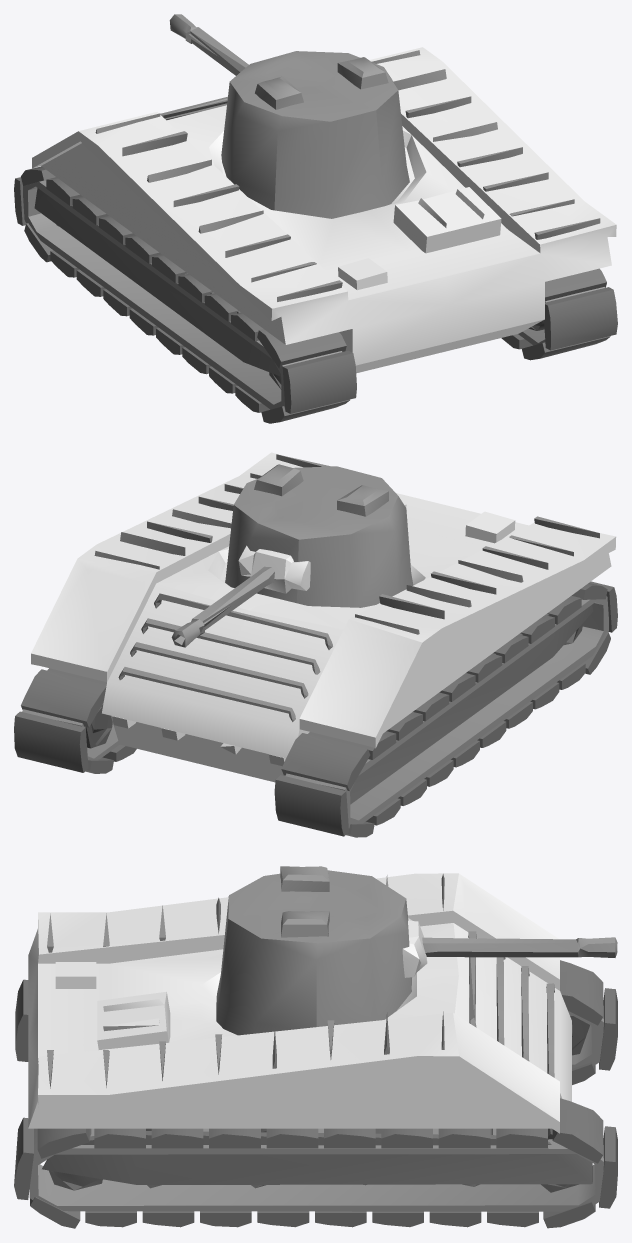
Rendered from cyan_ifv.glb.
The picture shows the model from 3 angles, top to bottom: view 1: azimuth 30°, elevation 25°; view 2: azimuth 150°, elevation 25°; view 3: azimuth 270°, elevation 25°; orthographic projection. The views are drawn at different scales.
Parts seen in each view (by area): view 1: Body, Turret, Barrel; view 2: Body, Turret, Barrel; view 3: Body, Turret, Barrel.
Part boxes in pixels (left/top/right/bottom): Body: left=14, top=47, right=617, bottom=423; Turret: left=221, top=51, right=409, bottom=218; Barrel: left=169, top=14, right=248, bottom=75; Body: left=14, top=452, right=617, bottom=837; Turret: left=225, top=464, right=413, bottom=607; Barrel: left=171, top=566, right=274, bottom=647; Body: left=14, top=873, right=617, bottom=1228; Turret: left=216, top=866, right=427, bottom=1035; Barrel: left=422, top=937, right=617, bottom=957.
Bounding box in the file's own units: 5.32 × 3.39 × 7.43.
2 materials, 1 textured.
